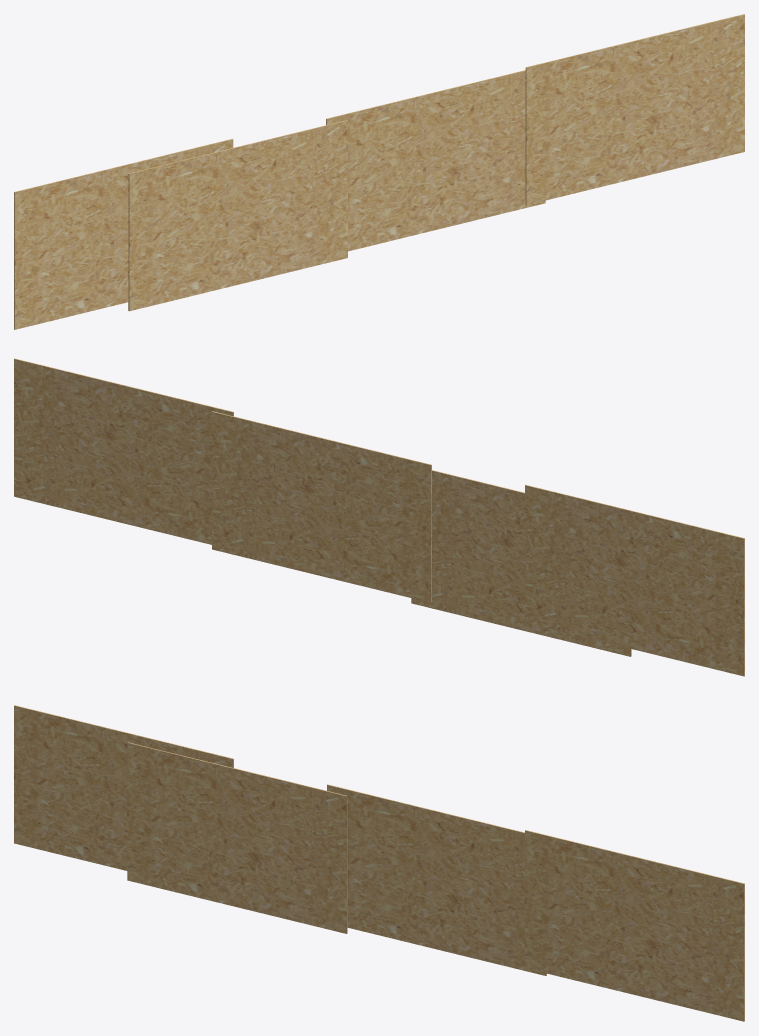
Rendered from LIELAl.glb.
3 renders of one model, top to bottom at view 1: azimuth 30°, elevation 25°; view 2: azimuth 150°, elevation 25°; view 3: azimuth 330°, elevation 25°, orthographic.
Visible parts, largest first — view 1: Cube.002, Cube.004, Cube.003, Cube.005; view 2: Cube.003, Cube.005, Cube.002, Cube.004; view 3: Cube.004, Cube.002, Cube.003, Cube.005.
Part boxes in pixels (bbox=[...]): Cube.002: bbox=[525, 14, 744, 205]; Cube.004: bbox=[128, 120, 347, 311]; Cube.003: bbox=[326, 70, 545, 251]; Cube.005: bbox=[14, 138, 233, 329]; Cube.003: bbox=[212, 411, 431, 602]; Cube.005: bbox=[525, 485, 744, 676]; Cube.002: bbox=[14, 358, 233, 544]; Cube.004: bbox=[411, 470, 631, 656]; Cube.004: bbox=[127, 742, 347, 933]; Cube.002: bbox=[525, 830, 744, 1021]; Cube.003: bbox=[327, 784, 546, 975]; Cube.005: bbox=[14, 705, 233, 870].
Size of the model in its own units: 9.31 by 1.79 by 0.0351.
4 materials, 4 textured.
